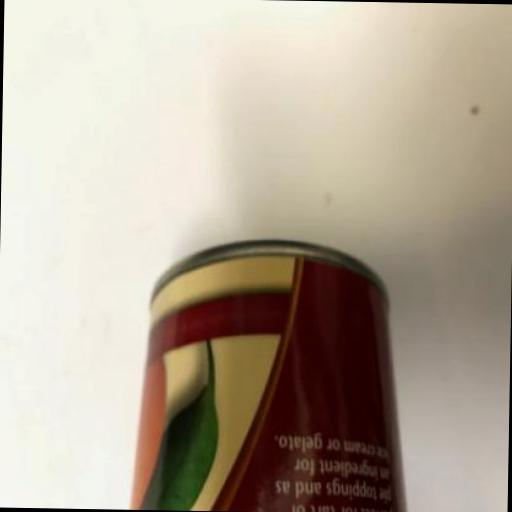metal: (128, 235, 413, 512)
